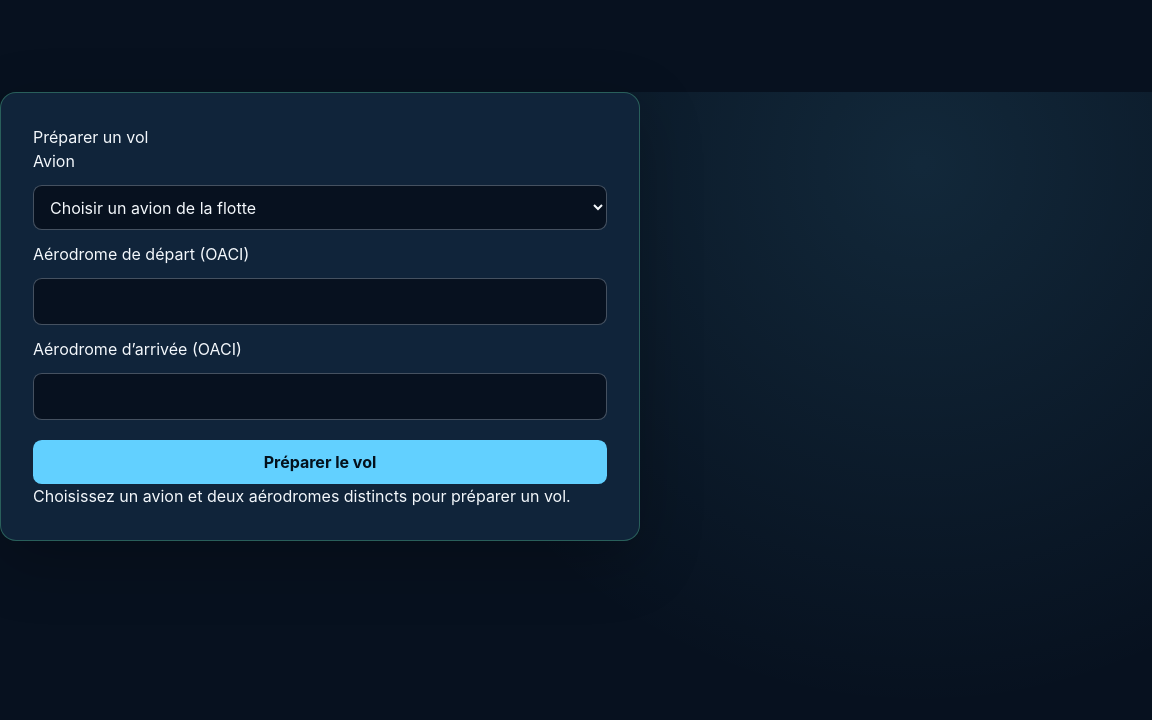
Test: FlightDispatchPanel › conserve la clé pour un retry de la même intention
Select "Synthetic Cessna · C172 · SYN-001" in the dropdown labelled "Avion": {"x": 320, "y": 208} [33,185,607,230]
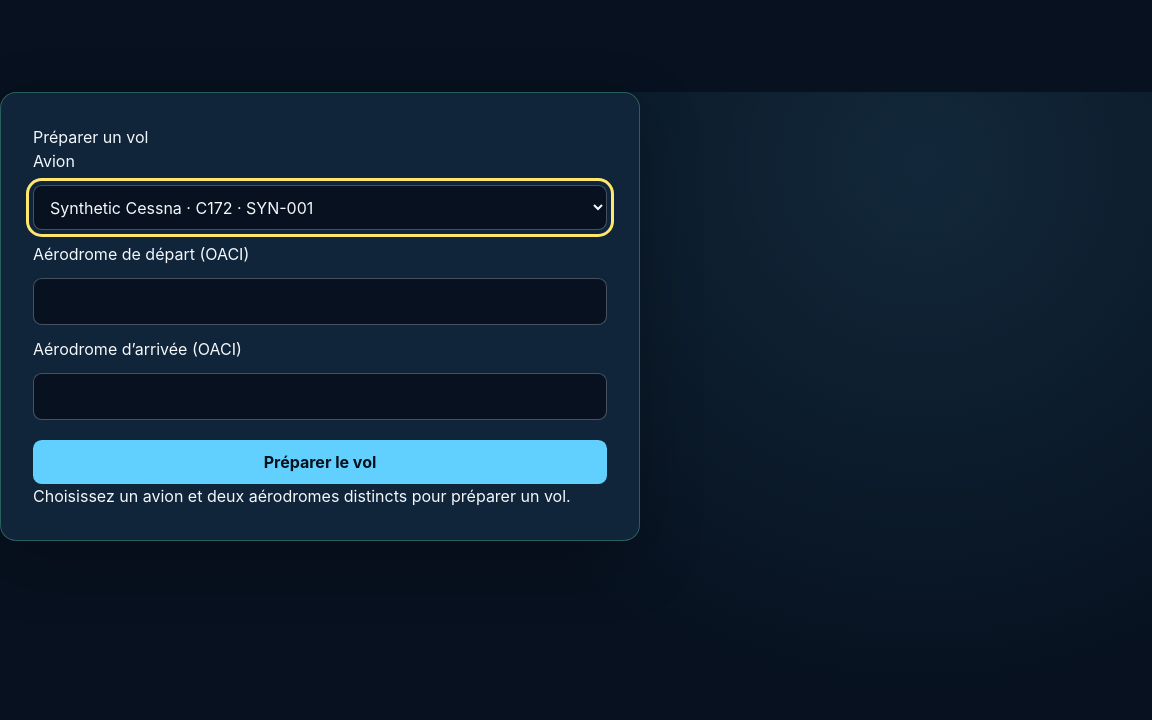
In the field labelled "Aérodrome de départ (OACI)": {"x": 320, "y": 301} [33,278,607,325], type "lfpg"
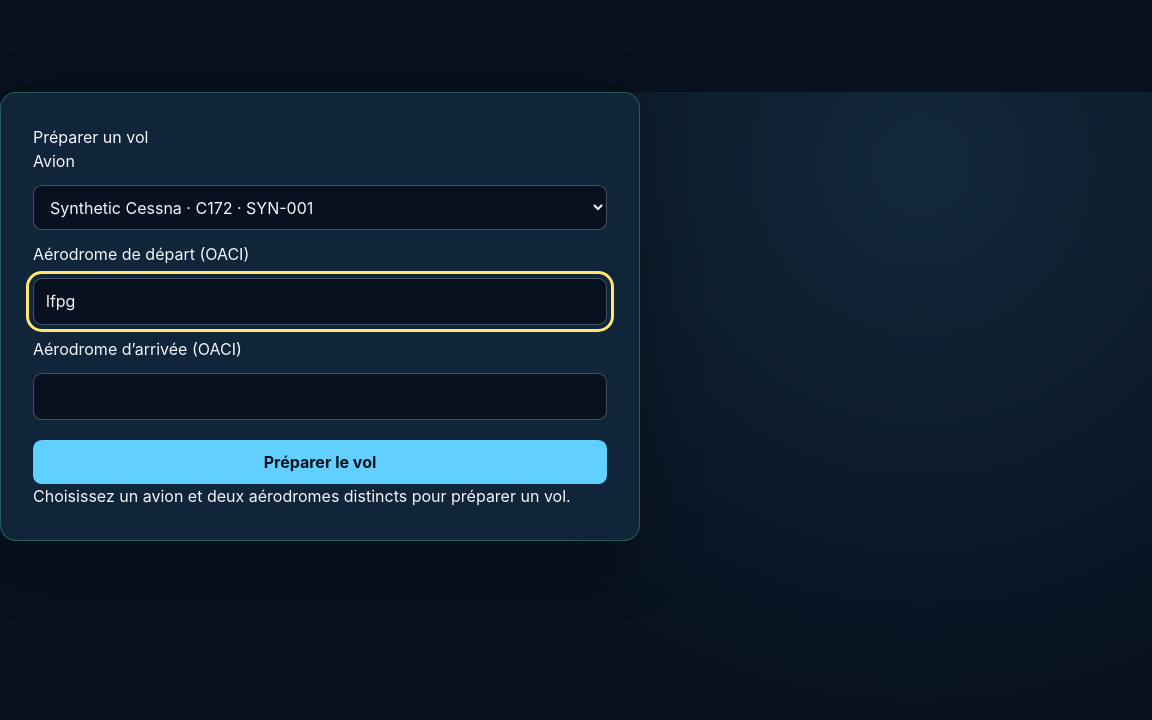
In the field labelled "Aérodrome d’arrivée (OACI)": {"x": 320, "y": 396} [33,373,607,420], type "lfbo"
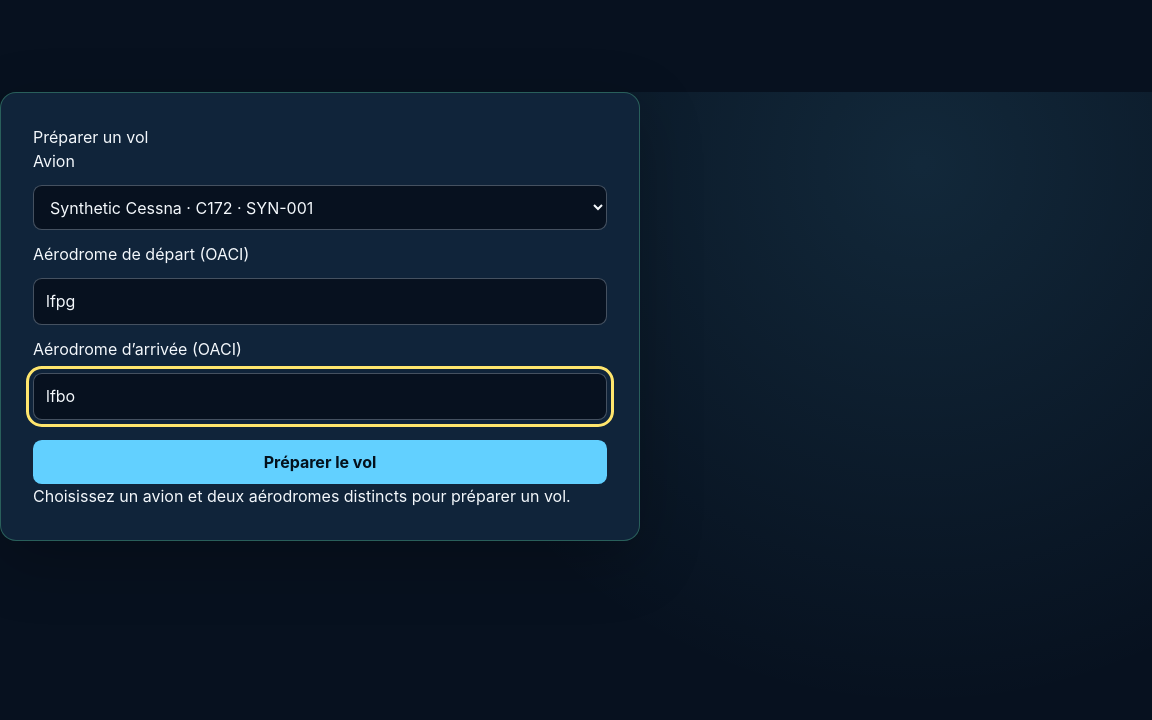
Click the button "Préparer le vol": {"x": 320, "y": 462} [33,440,607,484]
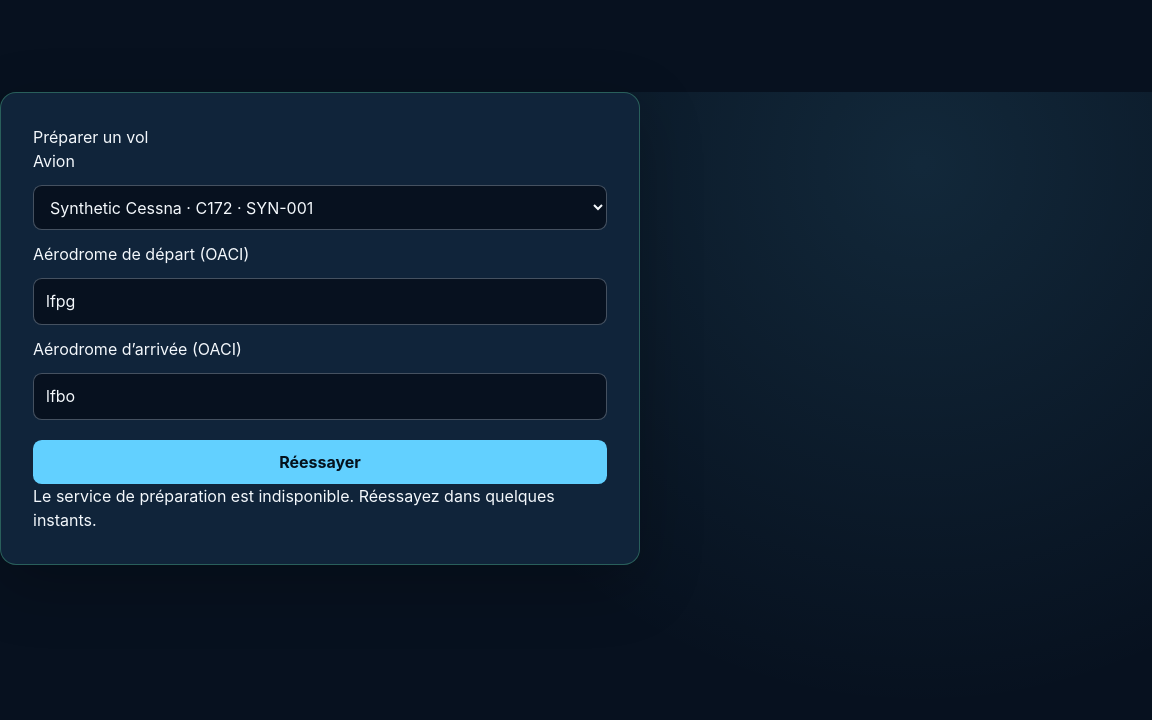
Expected: the message shows "indisponible", [33,486,555,530]
Click the button "Réessayer": {"x": 320, "y": 462} [33,440,607,484]
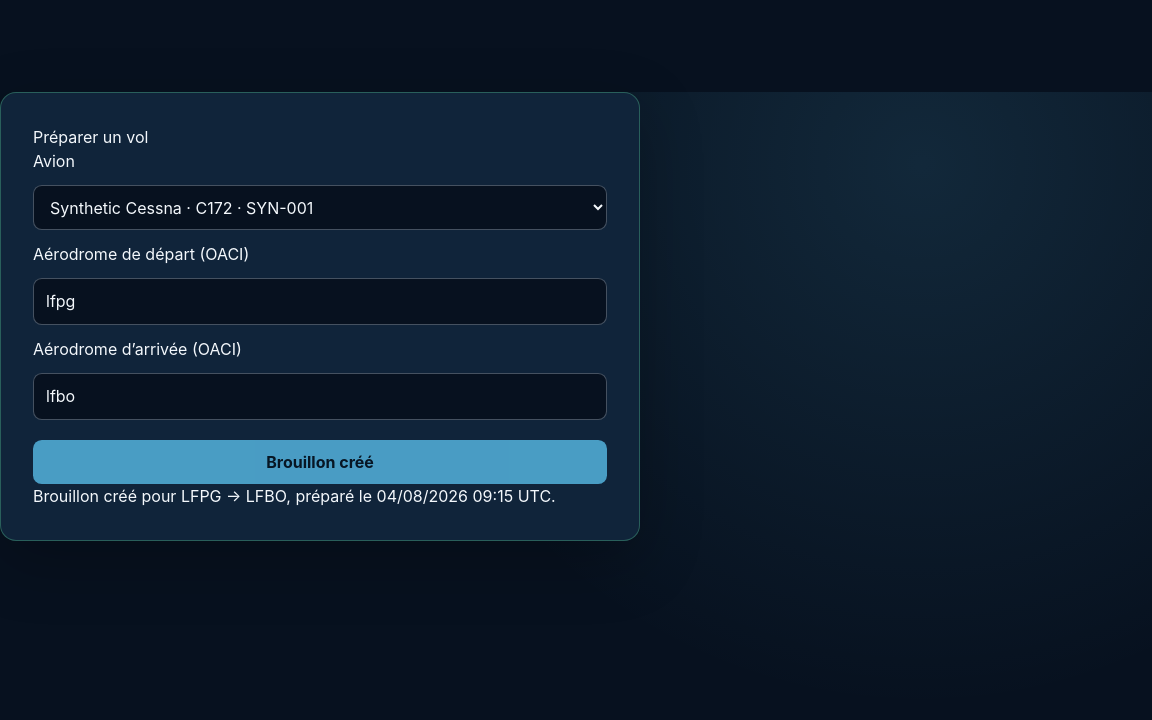
Expected: the text "Brouillon créé pour LFPG" is shown, [33,484,607,508]
